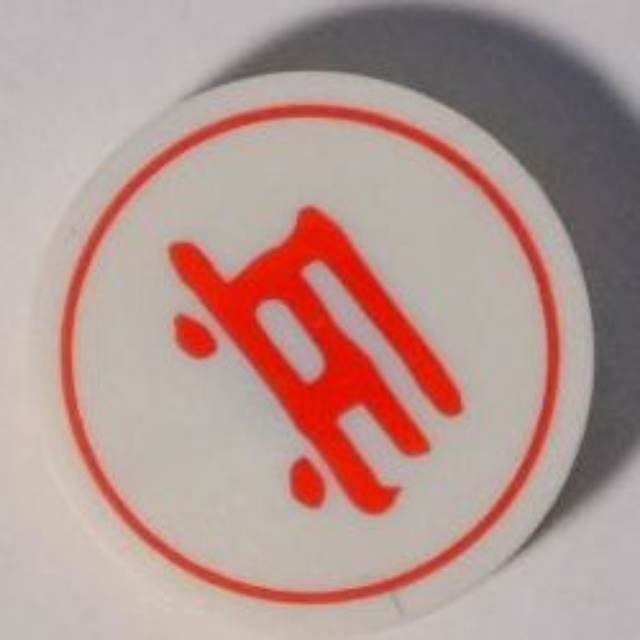red_chot: (8, 63, 611, 627)
